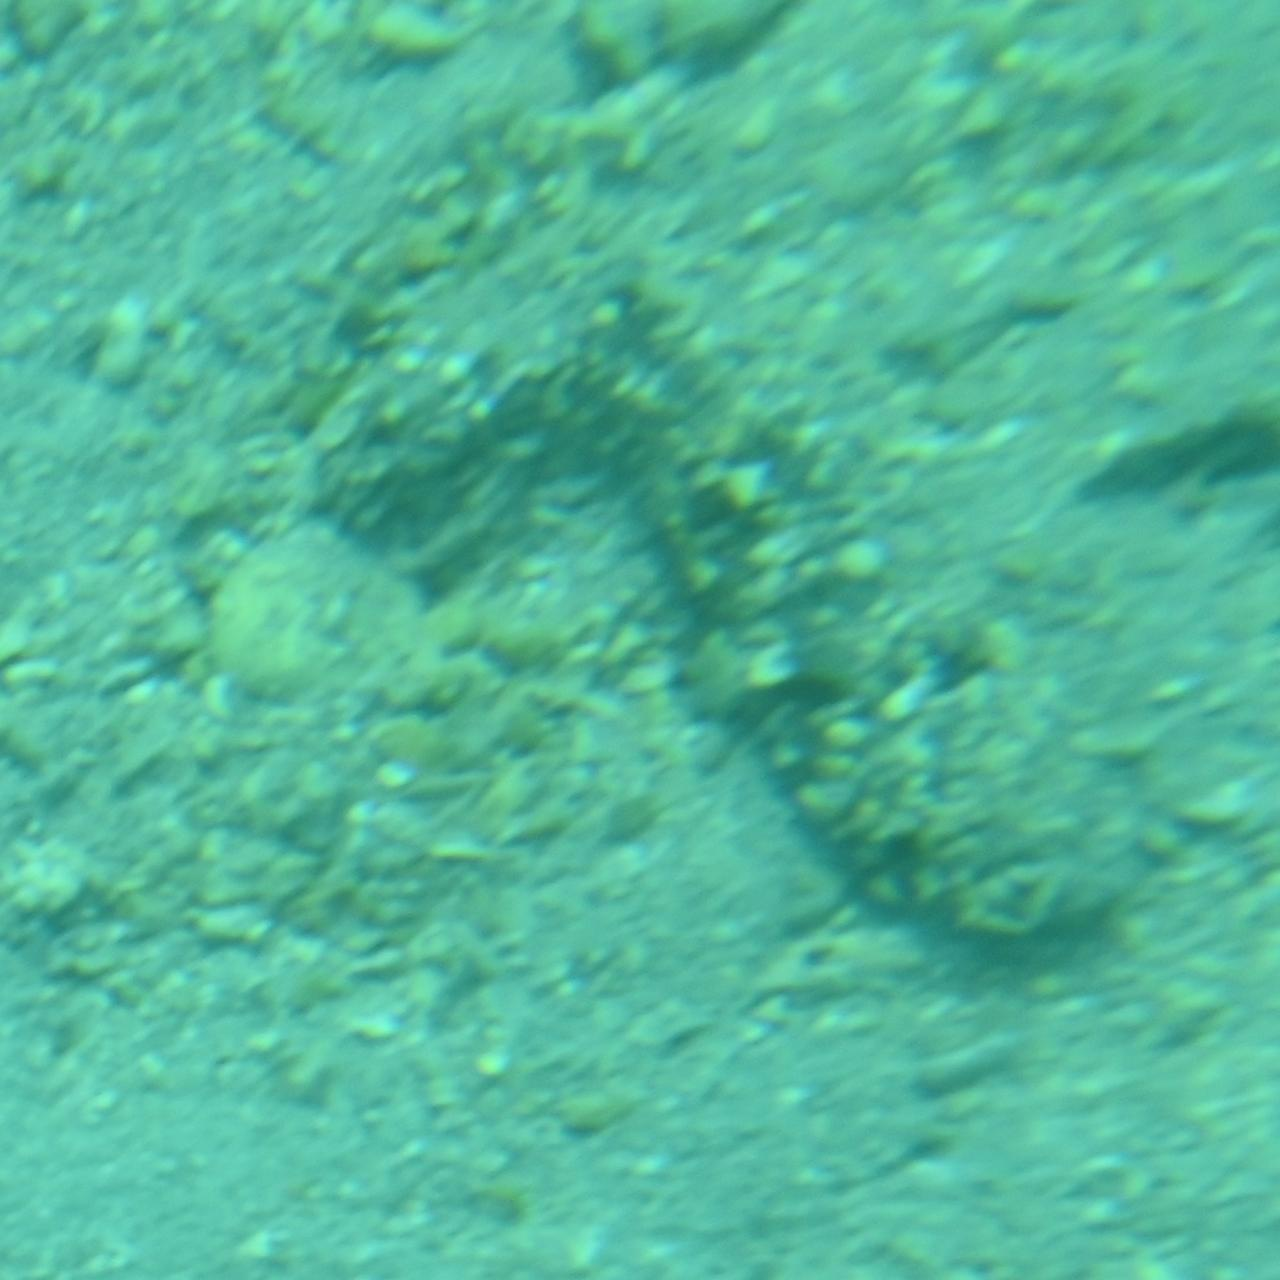Holothuria tubulosa: (313, 250, 1187, 1001)
